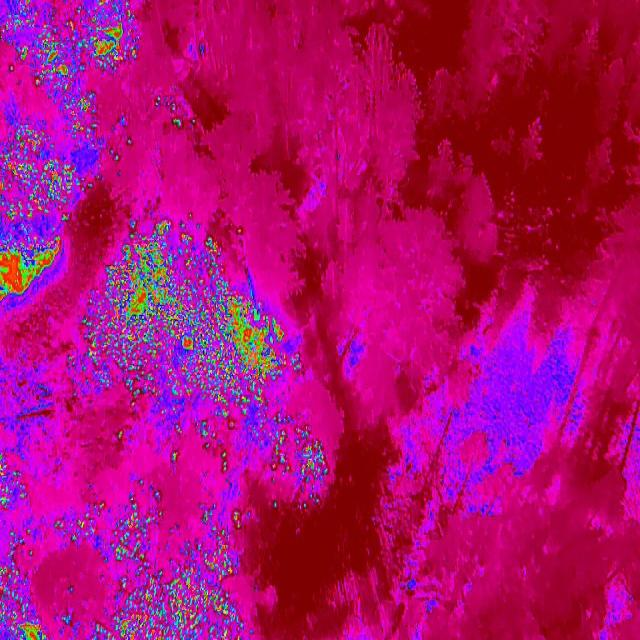fire: (83, 212, 300, 406), (95, 559, 248, 640), (1, 0, 145, 86), (0, 128, 83, 226), (266, 408, 331, 513), (0, 524, 47, 640), (0, 230, 62, 309), (110, 506, 164, 563), (79, 134, 132, 191), (194, 405, 237, 473), (201, 502, 248, 558), (55, 497, 108, 544), (54, 90, 96, 142), (148, 92, 198, 134), (0, 450, 26, 518), (126, 477, 164, 507), (64, 353, 83, 399), (160, 408, 189, 438), (167, 446, 182, 468), (114, 428, 125, 442)
